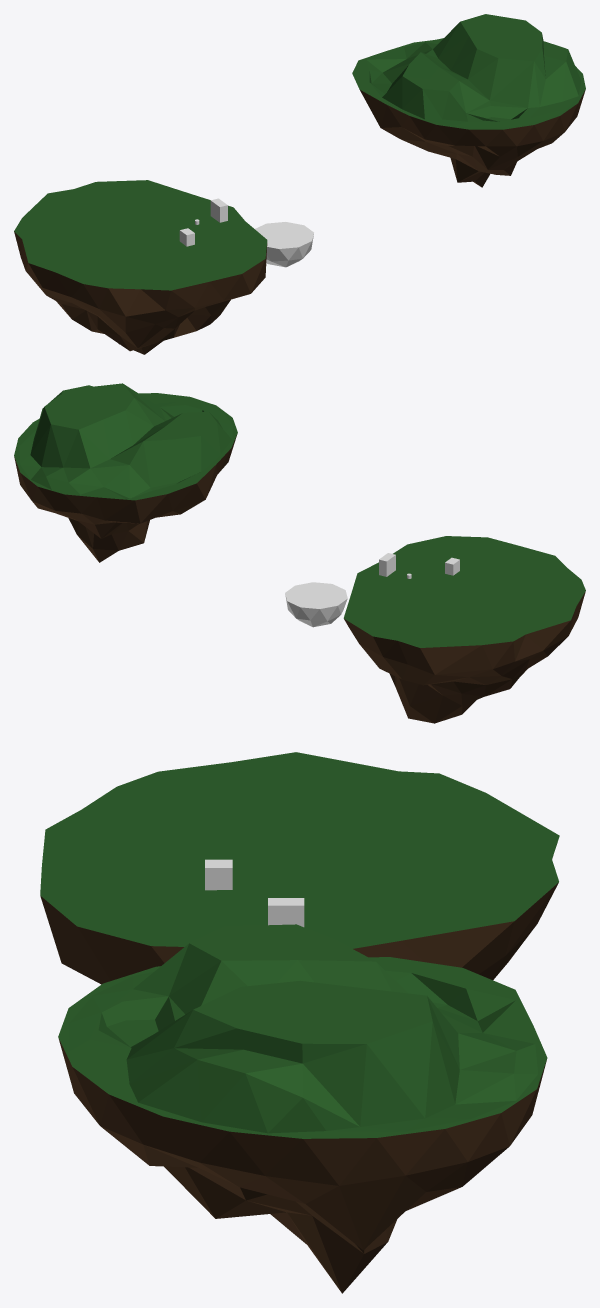
Rendered from ОООСТРОВ  В ОКЕАНЕ АНЕ АНЕ .fbx.
3 renders of one model, top to bottom at view 1: azimuth 30°, elevation 25°; view 2: azimuth 150°, elevation 25°; view 3: azimuth 270°, elevation 25°, orthographic. The views are drawn at different scales.
Parts seen in each view (by area): view 1: Остров 1, Икосфера.001, Икосфера; view 2: Остров 1, Икосфера.001, Икосфера; view 3: Икосфера.001, Остров 1, Куб, Куб.001.
Part boxes in pixels (x1,y1,x2,y2): Остров 1: (14,180,267,354); Икосфера.001: (352,14,585,187); Икосфера: (255,222,313,267); Остров 1: (343,536,585,723); Икосфера.001: (14,383,237,562); Икосфера: (285,582,347,627); Икосфера.001: (58,924,547,1293); Остров 1: (40,752,559,984); Куб: (268,898,304,927); Куб.001: (205,859,232,890).
Size of the model in its own units: 13529 by 5460 by 5676.
